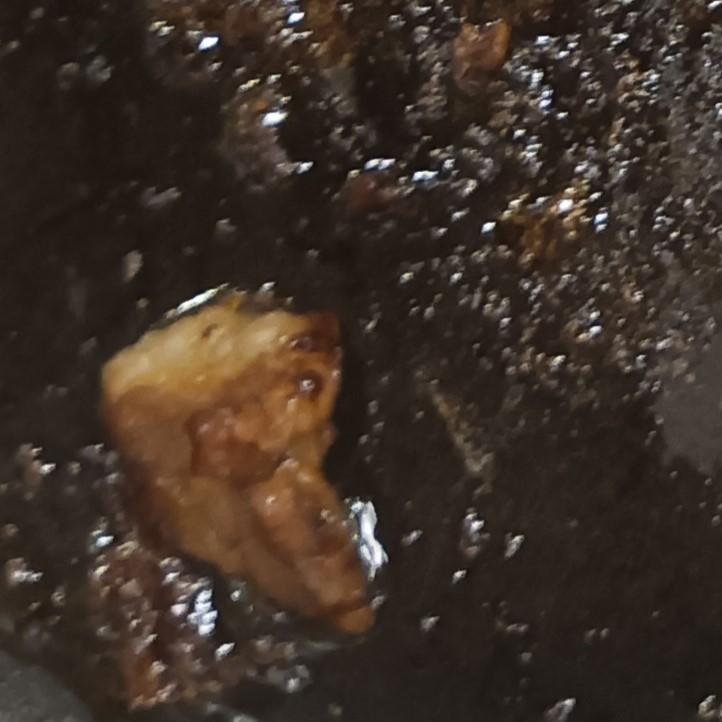Overcooked: (100, 289, 387, 634)
